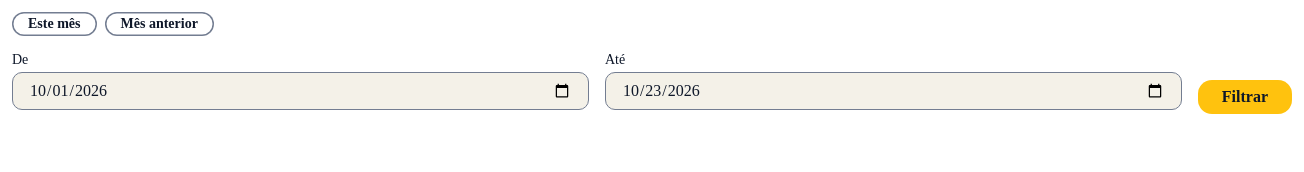
Test: FiltroPeriodo › períodos prontos › atalho que passa do limite de dias mostra o erro e não aplica
This screenshot has width=1304, height=172.
Click the button "Este mês". click: (54, 24)
box: [12, 12, 96, 36]
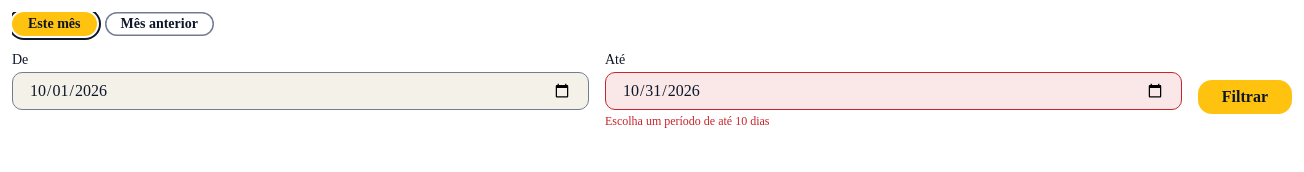
Expected: the text "Escolha um período de até 10 dias" is shown, [605, 114, 770, 128]
